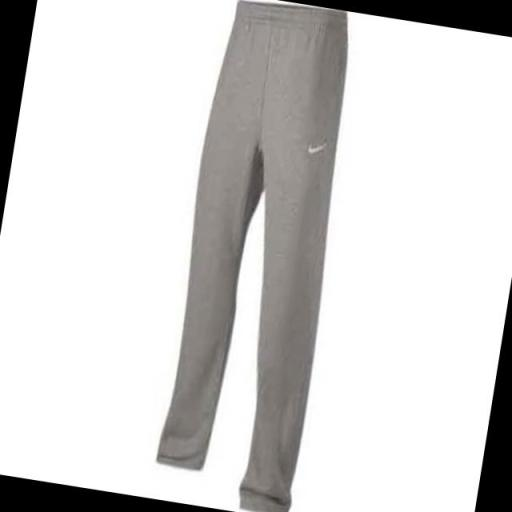Nike: (305, 136, 332, 157)
